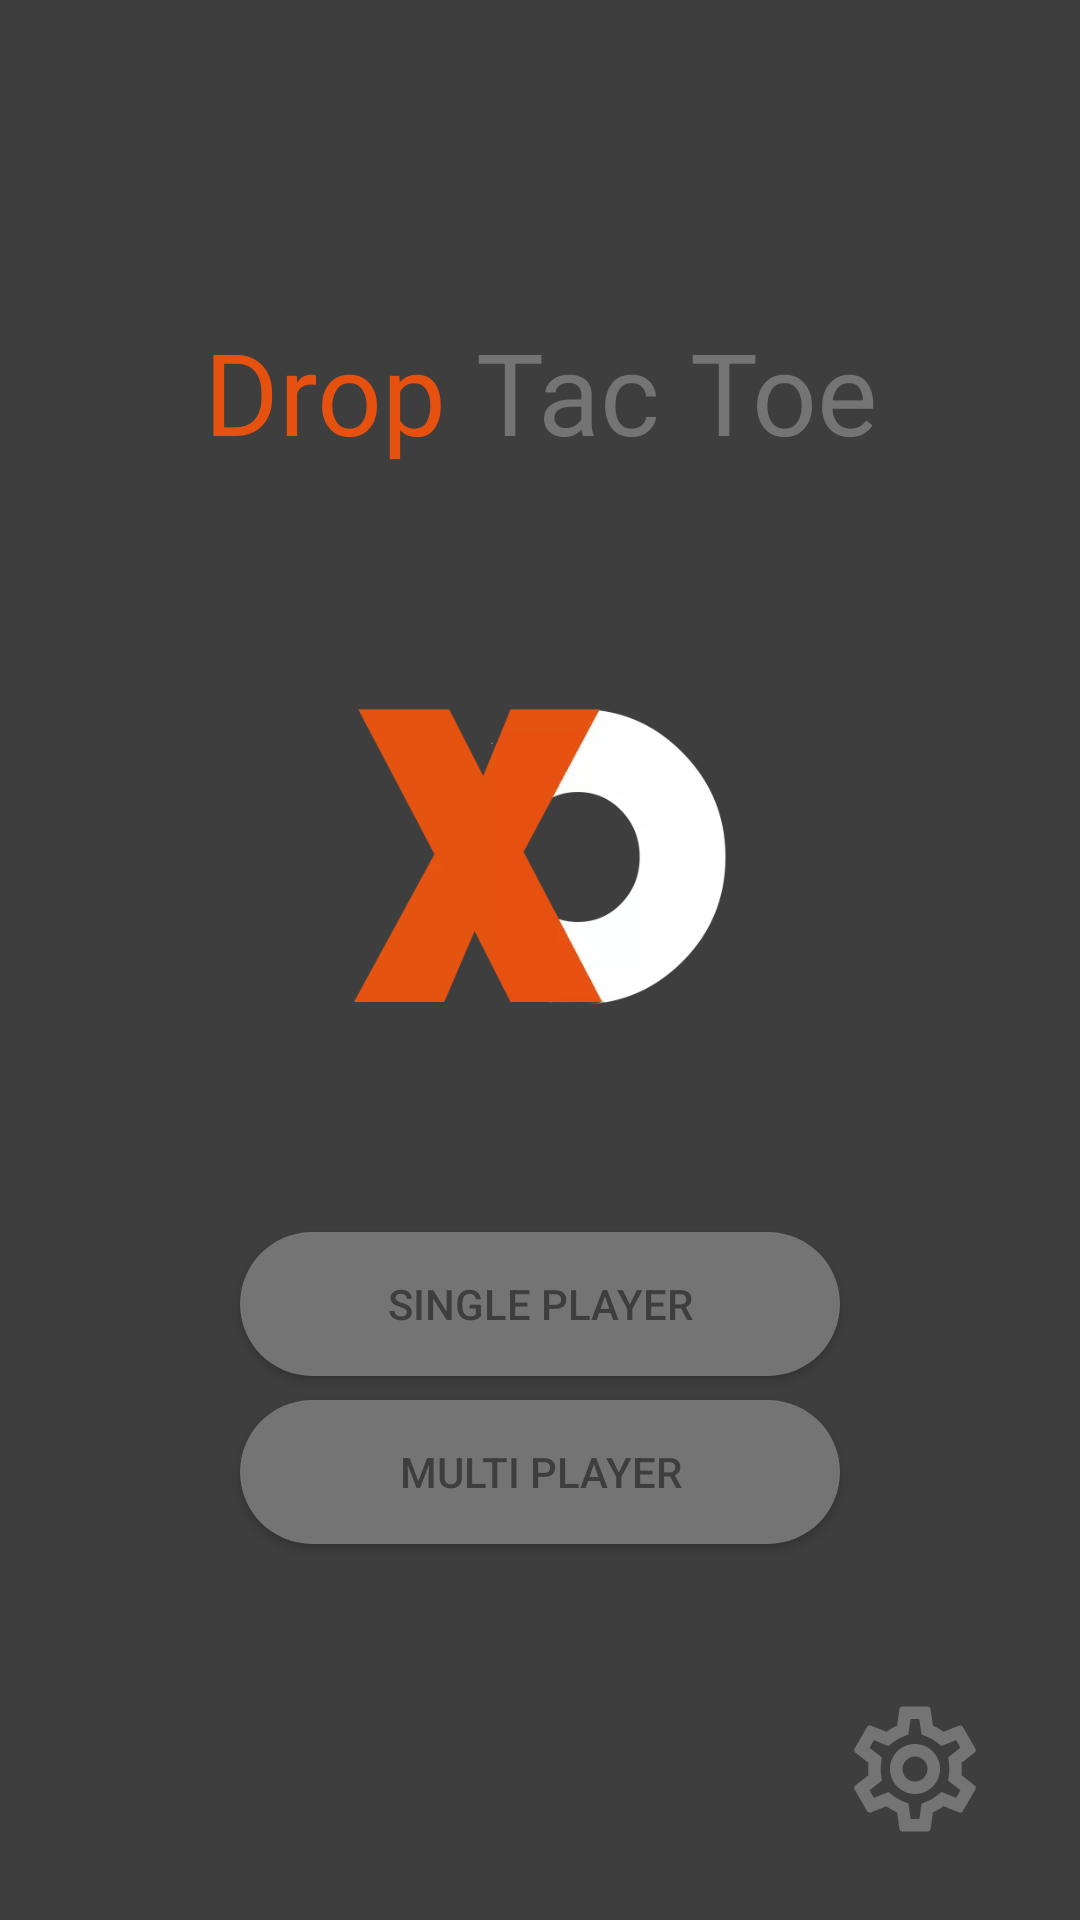

Icons on this 1080×1920 Android screen, each with its box as [x1=x1, y1=y1, x2=x2, y2=y2]:
settings: [x1=854, y1=1706, x2=976, y2=1832]
